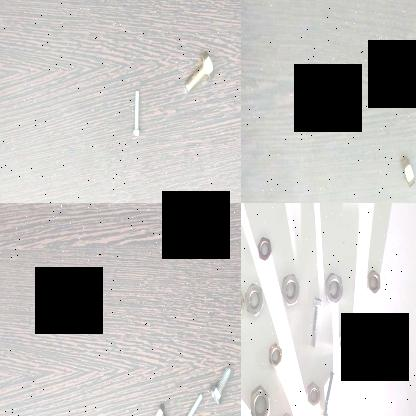Bolts: (184, 50, 214, 98), (305, 294, 325, 355), (208, 360, 232, 408), (129, 84, 149, 140), (320, 368, 336, 416), (181, 388, 204, 416), (152, 396, 178, 416)
NUTS: (326, 270, 348, 308), (245, 283, 268, 318), (399, 153, 416, 197), (251, 383, 273, 416), (282, 268, 300, 308), (365, 263, 386, 297), (268, 338, 284, 370), (258, 236, 274, 264), (338, 330, 356, 354), (305, 382, 321, 408), (279, 407, 298, 416)
